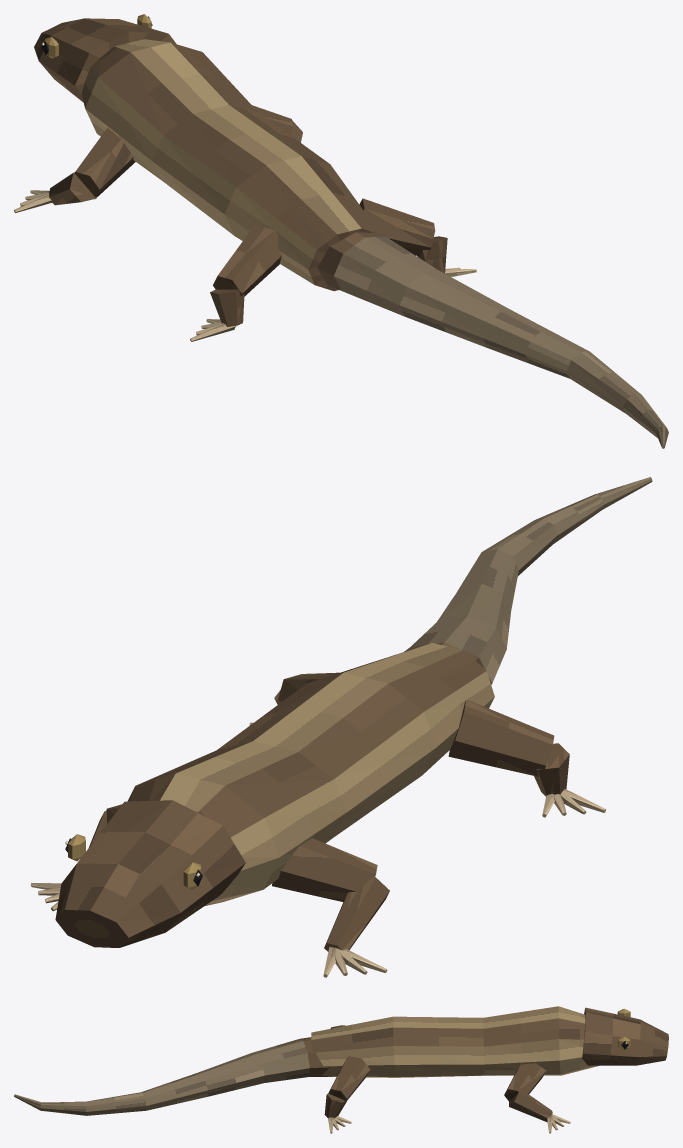
Rendered from mon_skink_fivelined.glb.
3 views of the same model, one above another, from view 1: azimuth 30°, elevation 25°; view 2: azimuth 150°, elevation 25°; view 3: azimuth 270°, elevation 25° (orthographic). The views are drawn at different scales.
Visible parts, largest first — view 1: closed_body; view 2: closed_body; view 3: closed_body.
Boxes of the visible parts, x1,y1,x2,y2 form: closed_body: (14, 14, 668, 448); closed_body: (30, 477, 652, 977); closed_body: (14, 1006, 668, 1133).
Size of the model in its own units: 0.0737 by 0.0311 by 0.2356.
1 material, 1 textured.
